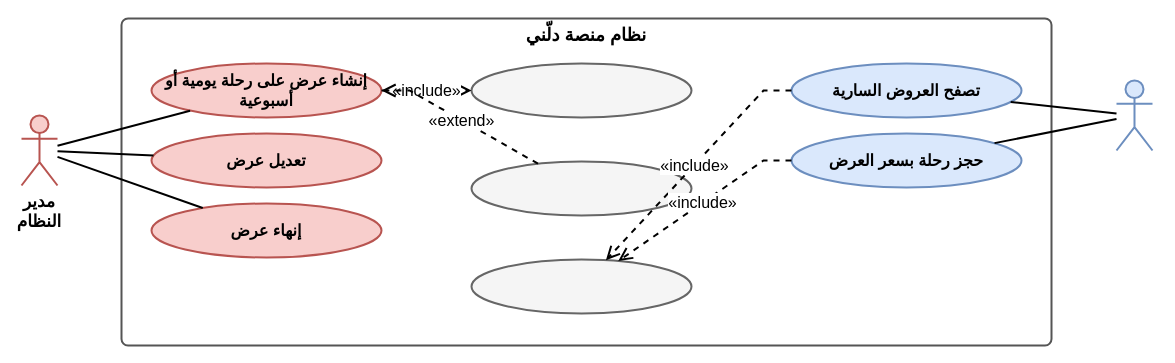
Image size: 1175x363. Some labels were removed from this diagram. The box of each missing label's shape, as (x1, y1, x2, y2) in pixels:
السائح: (1115, 79, 1153, 151)
تحديد شارة العرض: (470, 160, 692, 216)
تحديد نسبة الخصم وفترة العرض: (470, 62, 692, 118)
حساب السعر بعد الخصم: (470, 258, 692, 314)
